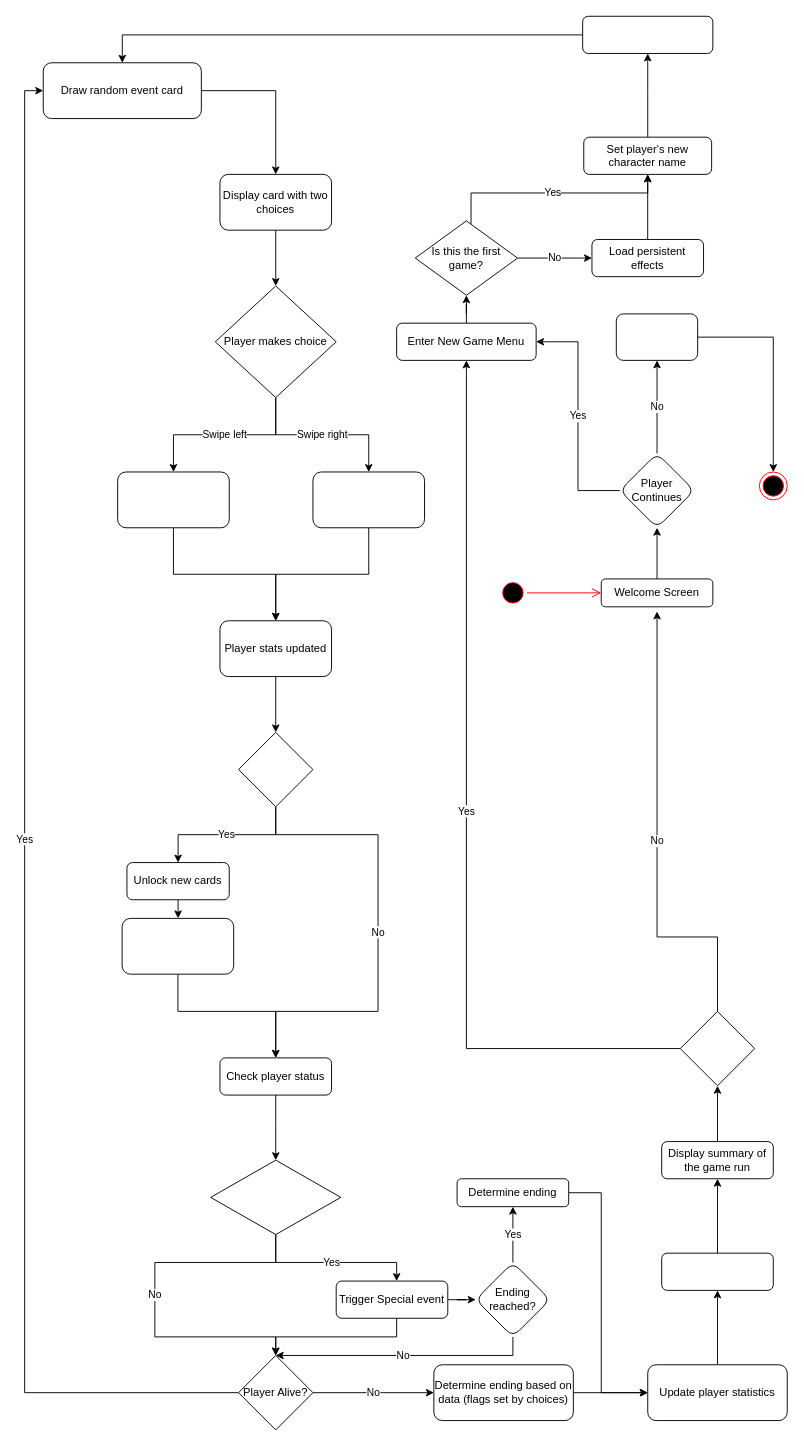
This 804x1446 diagram has some shape labels left out. Here are the shapes that lost their labels. From the top down, the box of each, then its label:
(582, 15, 713, 53): Set player's difficulty
(615, 313, 698, 360): Exit Game
(117, 471, 229, 528): Consequences for the right choice
(312, 471, 425, 528): Consequences for the left choice
(238, 731, 313, 807): Breakpoint reached?
(121, 917, 234, 974): Update in JSON backend
(679, 1010, 755, 1086): Start new game?
(210, 1159, 341, 1235): Stats Breakpoint reached?
(661, 1252, 773, 1290): Save persistent effects
